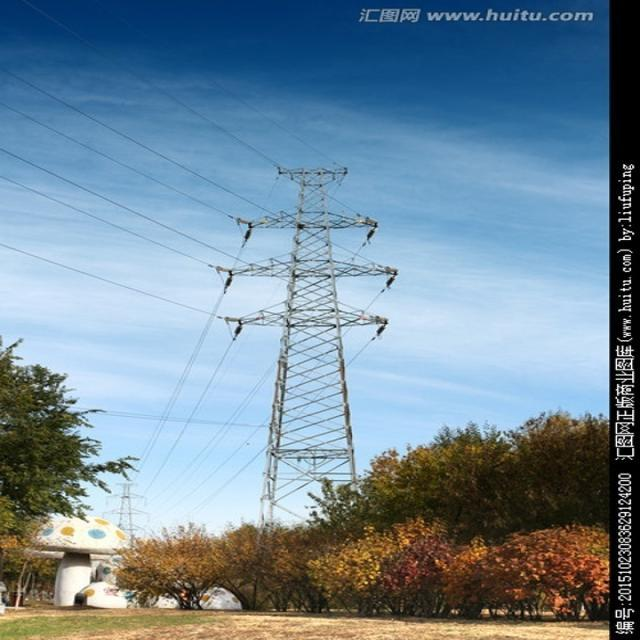non-critical vegetation: (206, 154, 411, 556)
